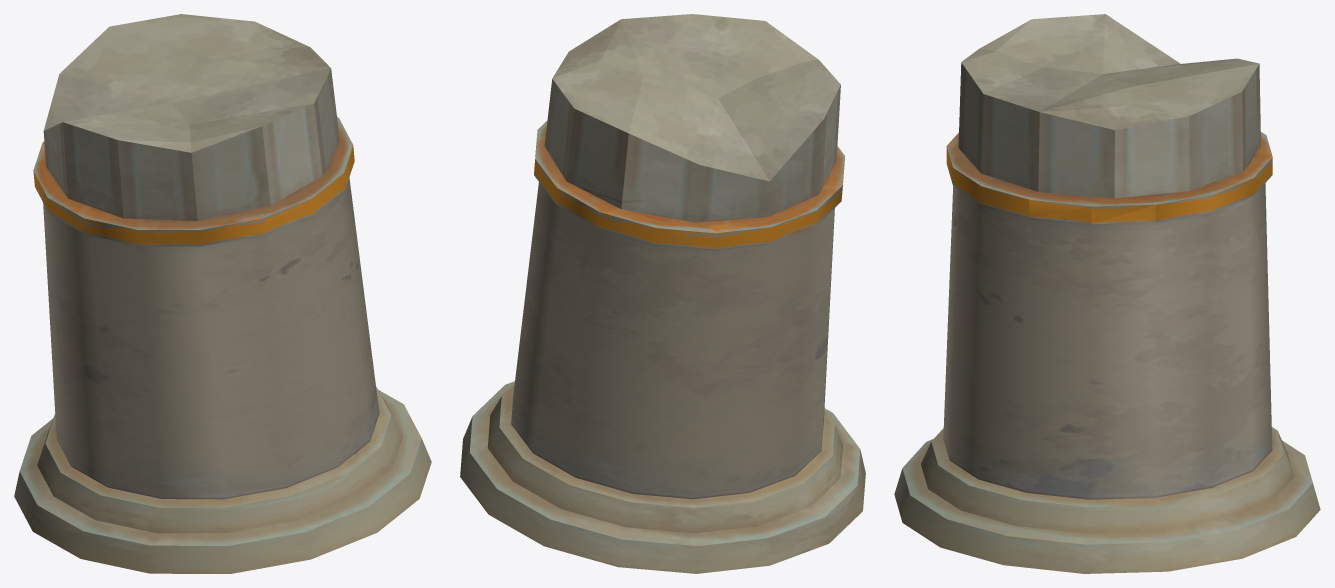
File: Story_0-8_kaipian_pillar_a01_b.fbx
3 renders of one model, left to right at view 1: azimuth 30°, elevation 25°; view 2: azimuth 150°, elevation 25°; view 3: azimuth 270°, elevation 25°, orthographic. The views are drawn at different scales.
Parts seen in each view (by area): view 1: Story_0_8_kaipian_pillar_a01_b; view 2: Story_0_8_kaipian_pillar_a01_b; view 3: Story_0_8_kaipian_pillar_a01_b.
Boxes of the visible parts, x1=… form: Story_0_8_kaipian_pillar_a01_b: x1=14, y1=14, x2=431, y2=573; Story_0_8_kaipian_pillar_a01_b: x1=460, y1=14, x2=865, y2=573; Story_0_8_kaipian_pillar_a01_b: x1=894, y1=14, x2=1320, y2=573.
Bounding box in the file's own units: 108 × 125 × 109.
